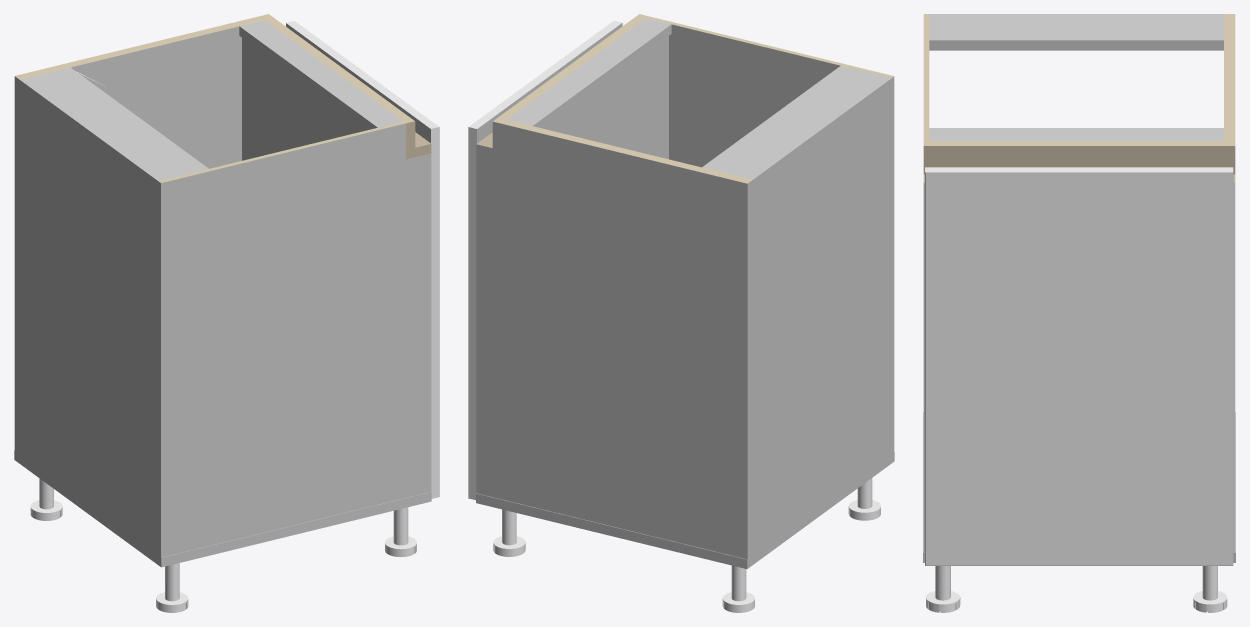
The picture shows the model from 3 angles, left to right: view 1: azimuth 30°, elevation 25°; view 2: azimuth 150°, elevation 25°; view 3: azimuth 270°, elevation 25°; orthographic projection. The views are drawn at different scales.
Visible parts, largest first — view 1: Model; view 2: Model; view 3: Model.
Boxes of the visible parts, box(x1,y1,x2,y2) form: Model: box(14, 14, 439, 612); Model: box(468, 14, 894, 612); Model: box(923, 14, 1235, 612).
Bounding box in the file's own units: 550 × 817 × 501.
